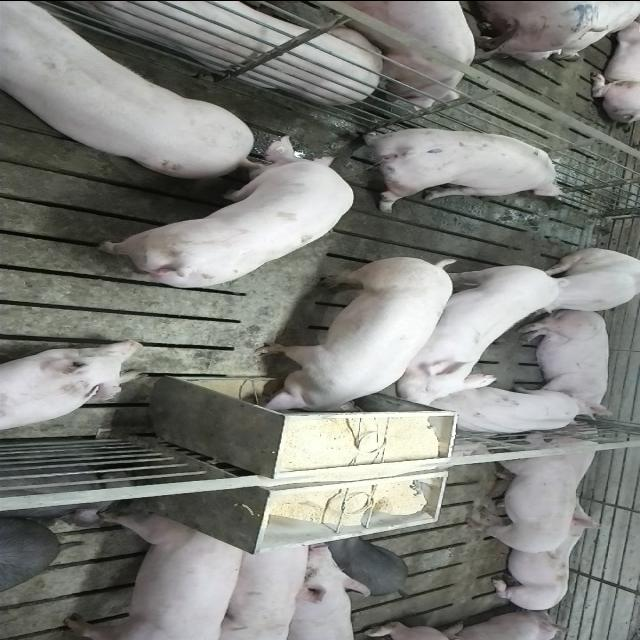Feeding: (244, 257, 460, 421)
Lateral_lying: (30, 0, 386, 101), (513, 308, 616, 416)
Sitting: (522, 247, 640, 316)
Standing: (0, 0, 258, 174), (92, 130, 352, 285), (51, 508, 253, 638), (387, 259, 563, 400), (346, 125, 570, 210), (316, 0, 474, 106), (458, 427, 578, 555), (206, 536, 314, 638), (282, 538, 369, 636)
Sternal_lying: (0, 338, 147, 434), (484, 508, 608, 610)
